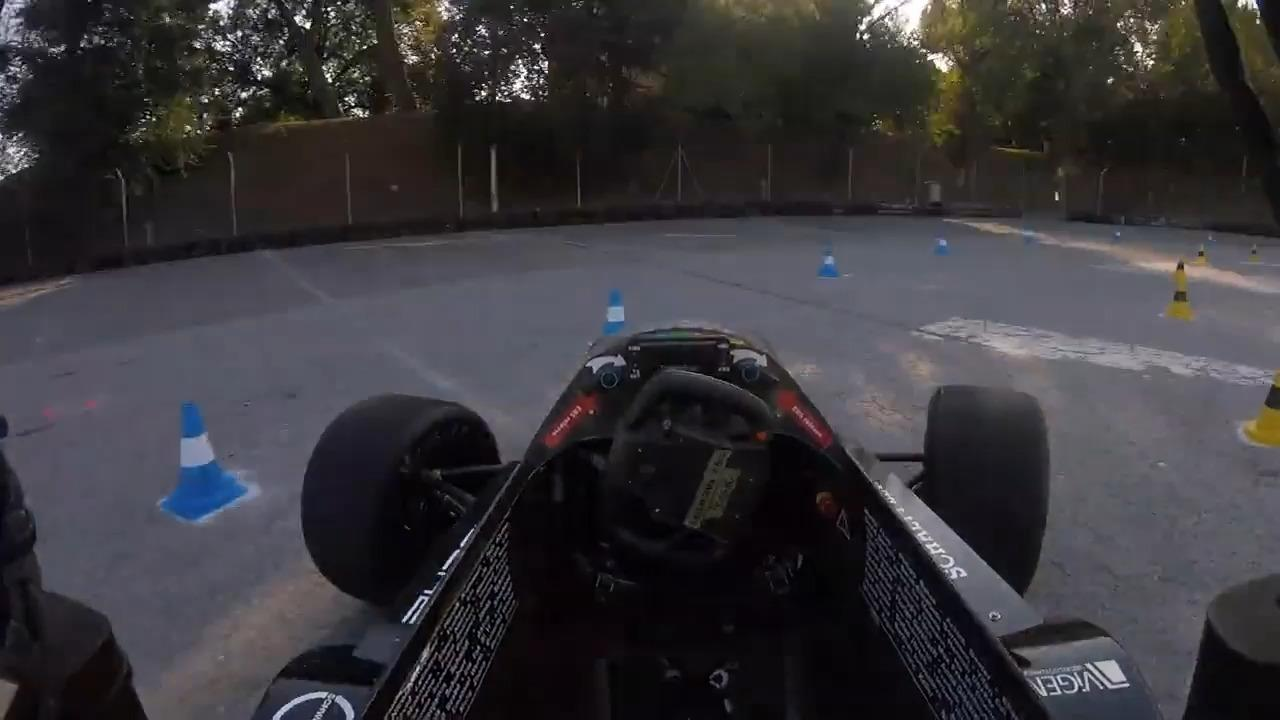blue_cone: (144, 399, 254, 530), (591, 280, 643, 361), (813, 238, 841, 283), (932, 233, 954, 259), (1019, 222, 1039, 249)
yellow_cone: (1240, 370, 1280, 449), (1159, 273, 1196, 322), (1169, 257, 1191, 284), (1245, 243, 1264, 266), (1193, 244, 1211, 268)
